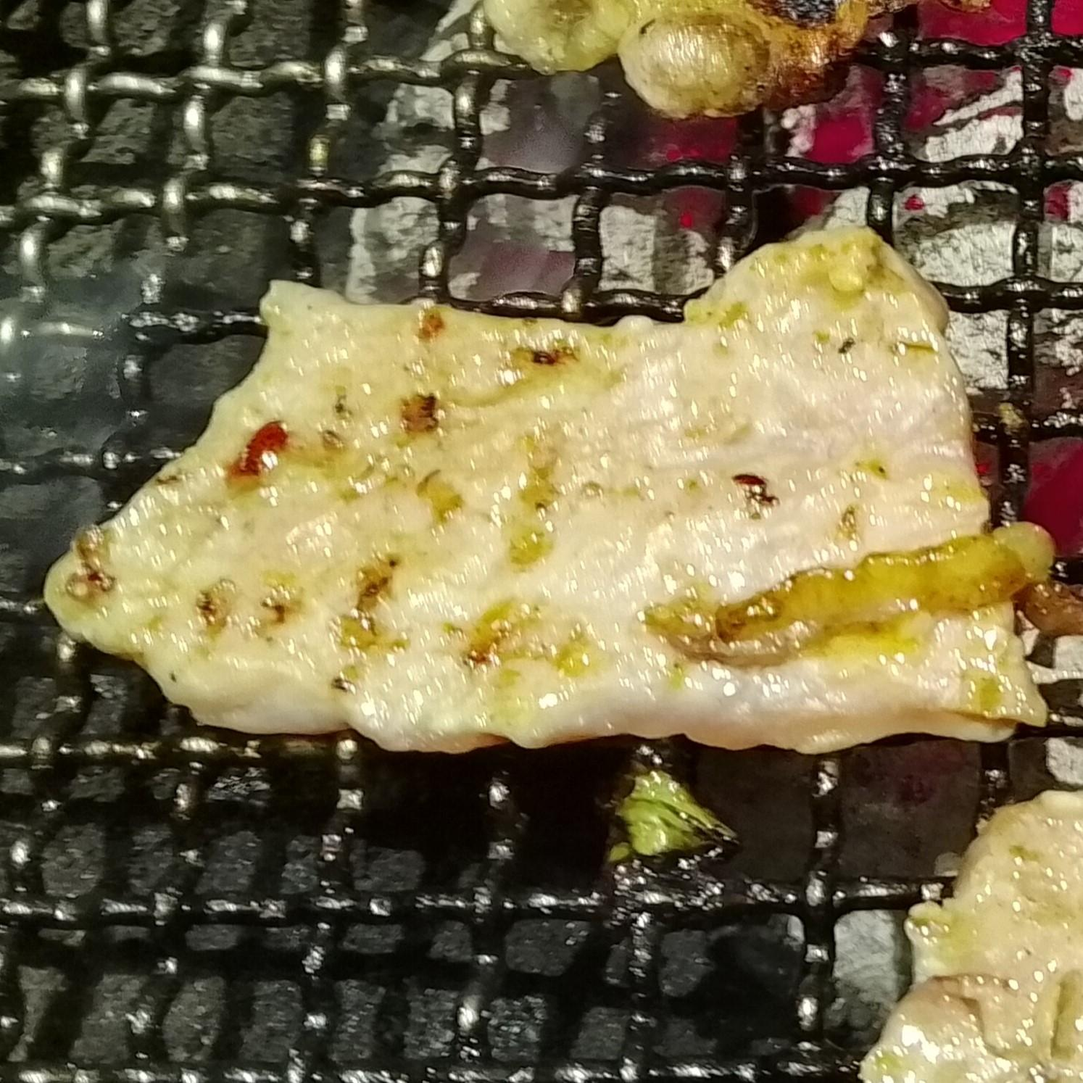Overcooked: (478, 0, 913, 121)
Well-Cooked: (41, 225, 1055, 760), (874, 808, 1082, 1082)
